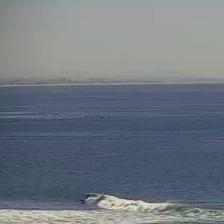surfer: (85, 193, 90, 198)
